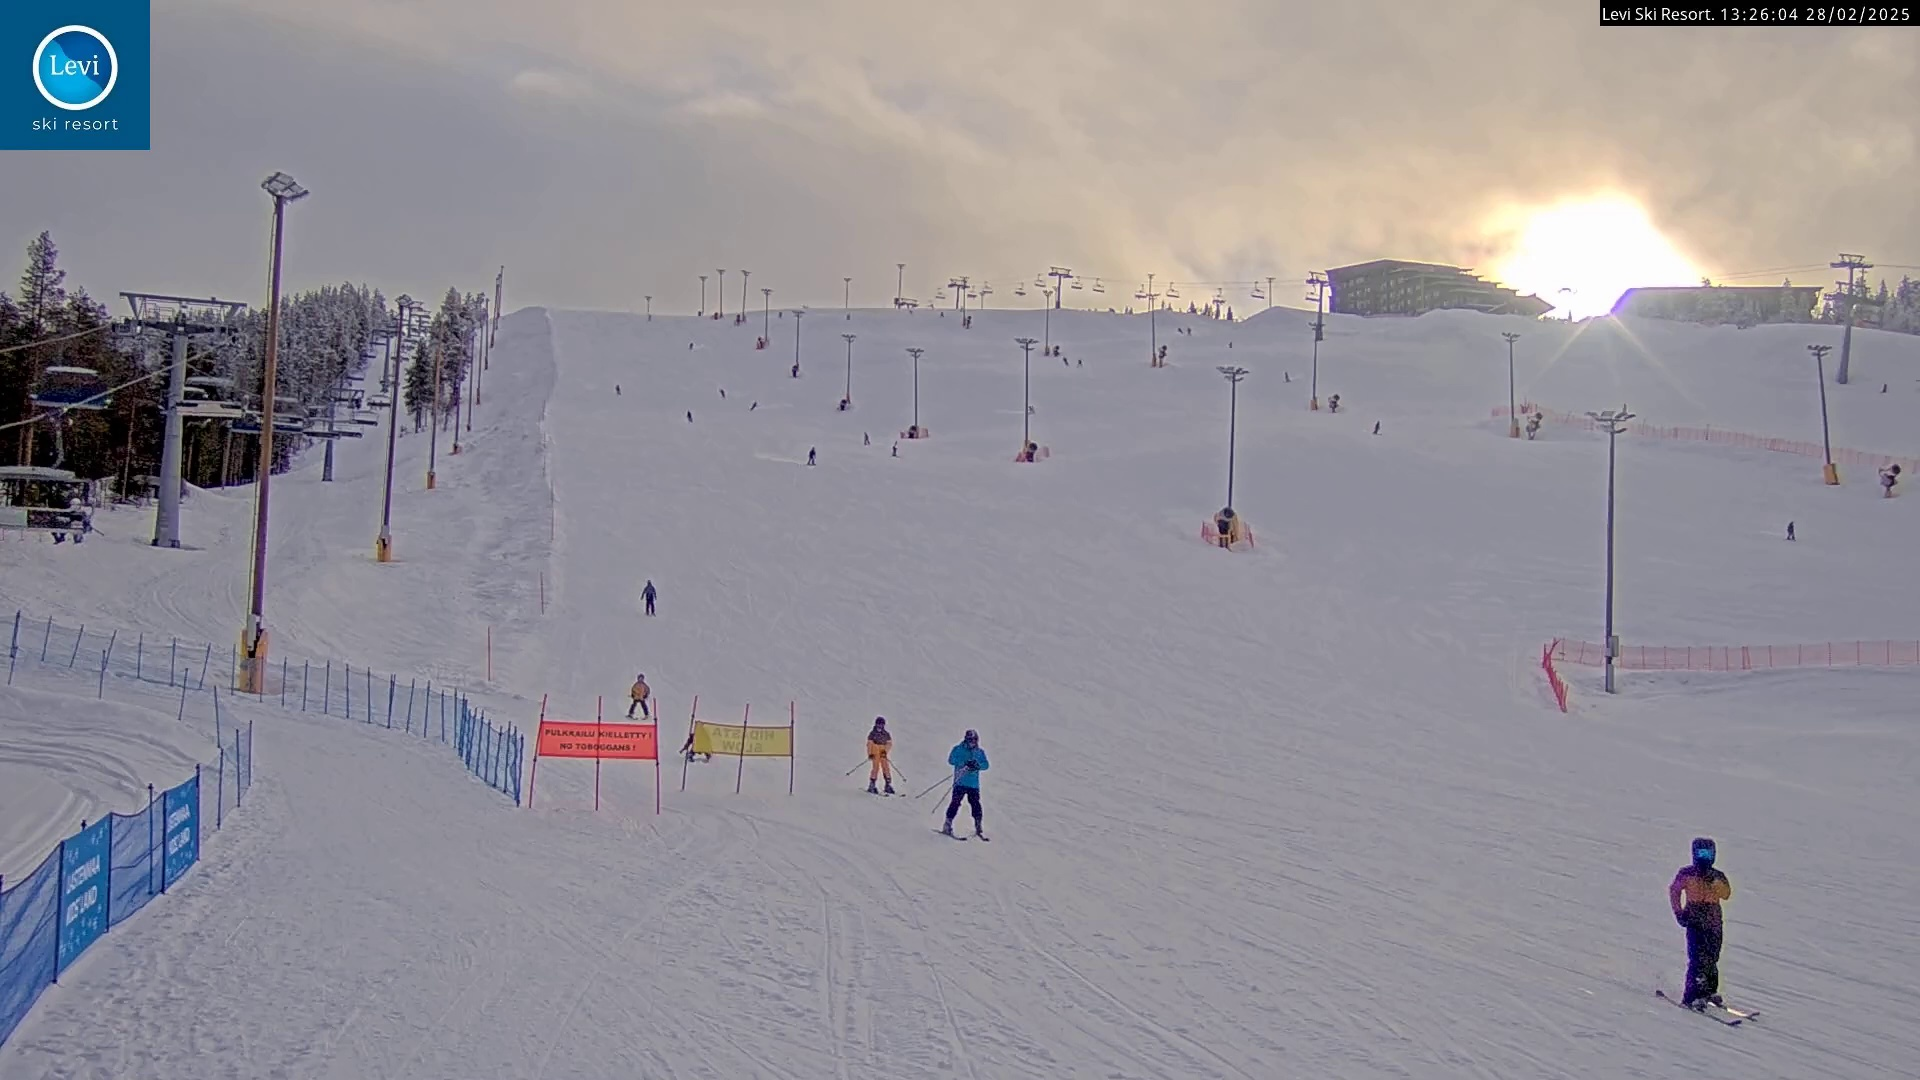skier: (1654, 833, 1760, 1031), (923, 729, 989, 841)
